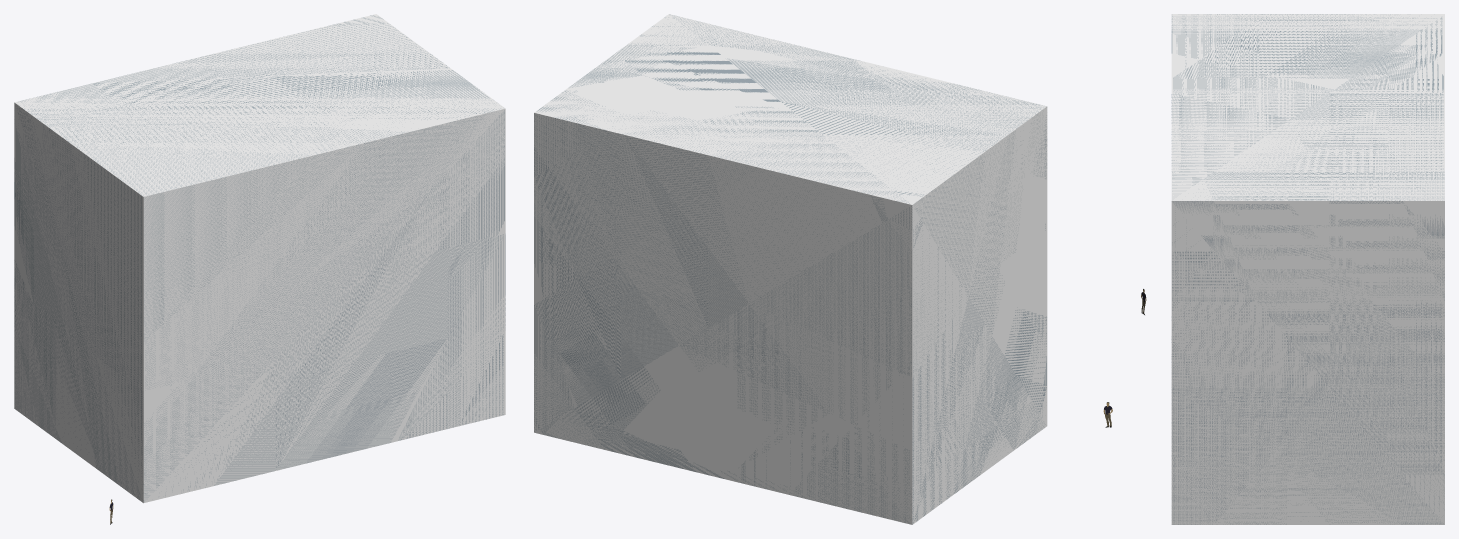
File: WhiteKnights building.dae
3 renders of one model, left to right at view 1: azimuth 30°, elevation 25°; view 2: azimuth 150°, elevation 25°; view 3: azimuth 270°, elevation 25°, orthographic. The views are drawn at different scales.
Parts seen in each view (by area): view 1: SketchUp; view 2: SketchUp; view 3: SketchUp.
Part boxes in pixels (x1,y1,x2,y2): SketchUp: (14,14,505,503); SketchUp: (534,14,1047,524); SketchUp: (1171,14,1444,524).
Bounding box in the file's own units: 1218 × 738 × 869.
